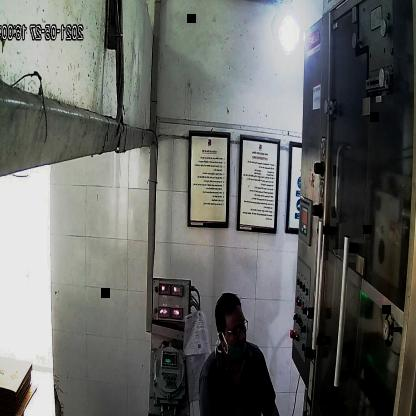goggles: (217, 312, 252, 342)
